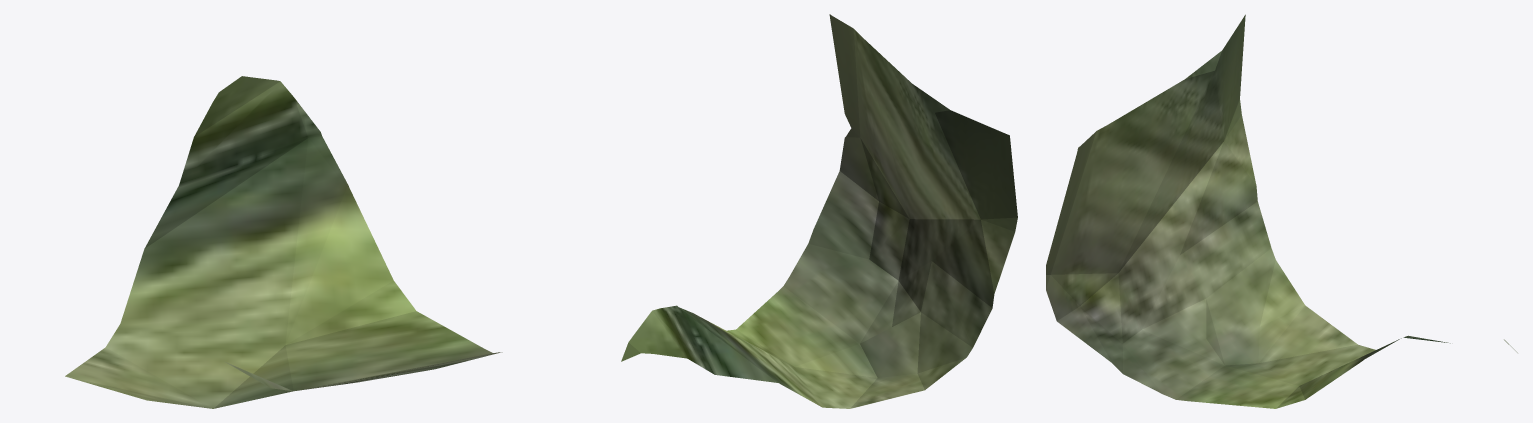
3 renders of one model, left to right at view 1: azimuth 30°, elevation 25°; view 2: azimuth 150°, elevation 25°; view 3: azimuth 270°, elevation 25°, orthographic. The views are drawn at different scales.
Bounding box in the file's own units: 6.77 × 6.57 × 9.9.
1 material, 1 textured.
